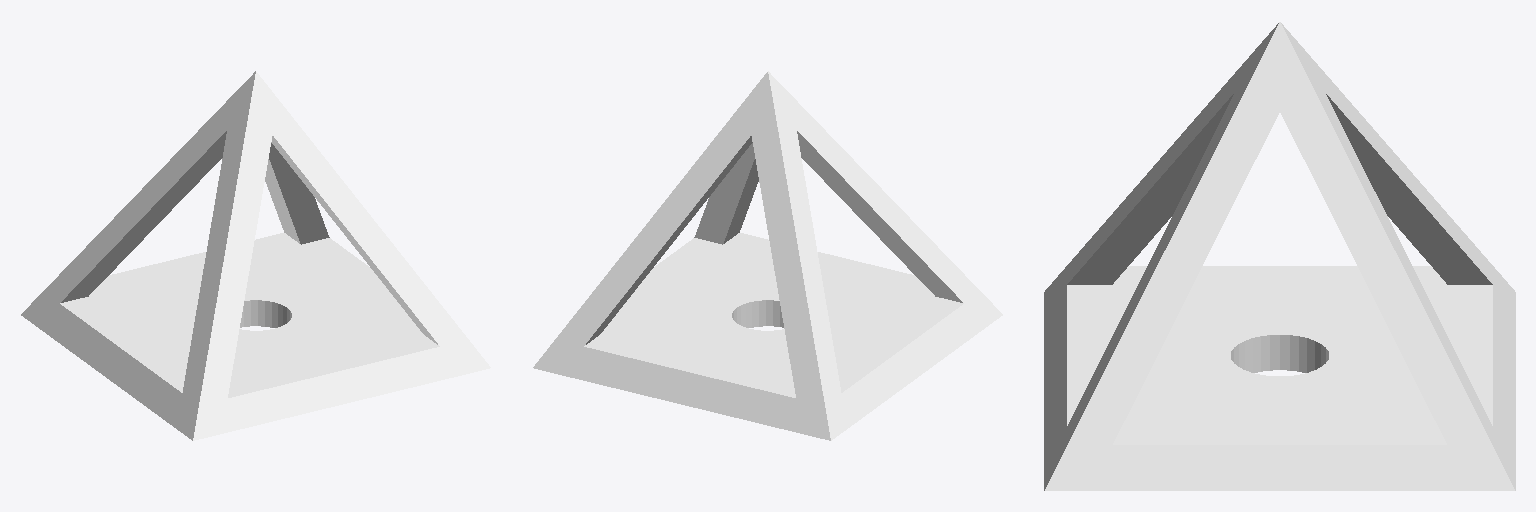
URDF robot description (Hollow_Pyramid):
<?xml version="1.0" ?>
<robot name="Hollow_Pyramid">
  <link name="Hollow_Pyramid">
    <contact>
      <lateral_friction value="1.0"/>
      <rolling_friction value="1.0"/>
      <inertia_scaling value="3.0"/>
      <contact_cdm value="0.0"/>
      <contact_erp value="1.0"/>
    </contact>
    <inertial>
      <origin rpy="0 0 0" xyz="0 0 0"/>
      <mass value="1.0"/>
      <inertia ixx="0" ixy="0" ixz="0" iyy="0" iyz="0" izz="0"/>
    </inertial>
    <visual>
      <origin rpy="0 0 0" xyz="0 0 0"/>
      <geometry>
        <mesh filename="Hollow_Pyramid_vis.obj" scale="1.0 1.0 1.0"/>
      </geometry>
      <material name="blockmat">
        <color rgba="1.0 1.0 1.0 1.0"/>
      </material>
    </visual>
    <collision>
      <origin rpy="0 0 0" xyz="0 0 0"/>
      <geometry>
        <mesh filename="Hollow_Pyramid_col.obj" scale="1.0 1.0 1.0"/>
      </geometry>
    </collision>
  </link>
</robot>

--- Render facts (derived) ---
3 views of the same robot in one strip: view 1: azimuth 30°, elevation 25°; view 2: azimuth 150°, elevation 25°; view 3: azimuth 270°, elevation 25° (orthographic).
Model Hollow_Pyramid with 1 links and 0 joints (none), rooted at Hollow_Pyramid, posed all joints at 0.
Visible links, largest first — view 1: Hollow_Pyramid; view 2: Hollow_Pyramid; view 3: Hollow_Pyramid.
Link boxes in pixels (box(x1,y1,x2,y2)): Hollow_Pyramid: box(21, 71, 490, 440); Hollow_Pyramid: box(533, 71, 1002, 440); Hollow_Pyramid: box(1044, 22, 1515, 490).
Size in the robot's own frame: 0.0381 by 0.0381 by 0.033 metres.
Meshes: 1 distinct files referenced, 1 mesh visuals loaded (1 OBJ).